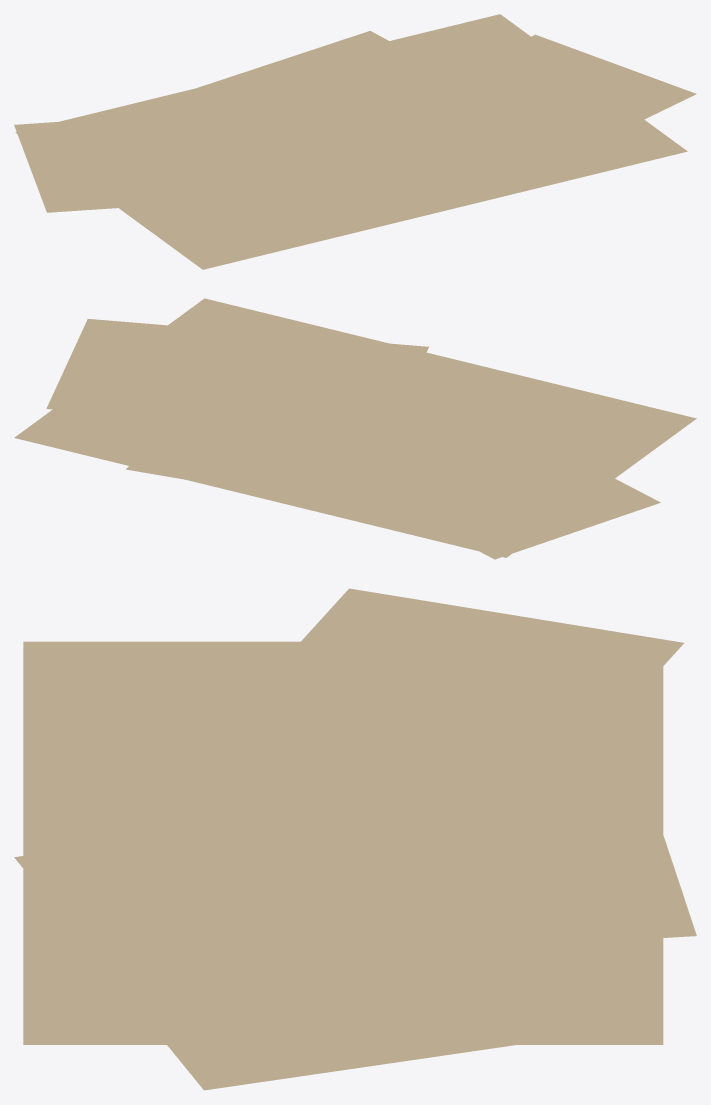
File: fog-bank.glb
3 renders of one model, top to bottom at view 1: azimuth 30°, elevation 25°; view 2: azimuth 150°, elevation 25°; view 3: azimuth 270°, elevation 25°, orthographic. The views are drawn at different scales.
Parts seen in each view (by area): view 1: Fog_Bank_Amber; view 2: Fog_Bank_Amber; view 3: Fog_Bank_Amber.
Boxes of the visible parts, left/top/right/bottom form: Fog_Bank_Amber: left=14, top=14, right=696, bottom=269; Fog_Bank_Amber: left=14, top=298, right=696, bottom=559; Fog_Bank_Amber: left=14, top=588, right=696, bottom=1090.
Bounding box in the file's own units: 10.64 × 0.09 × 6.08.
1 material, 1 textured.
